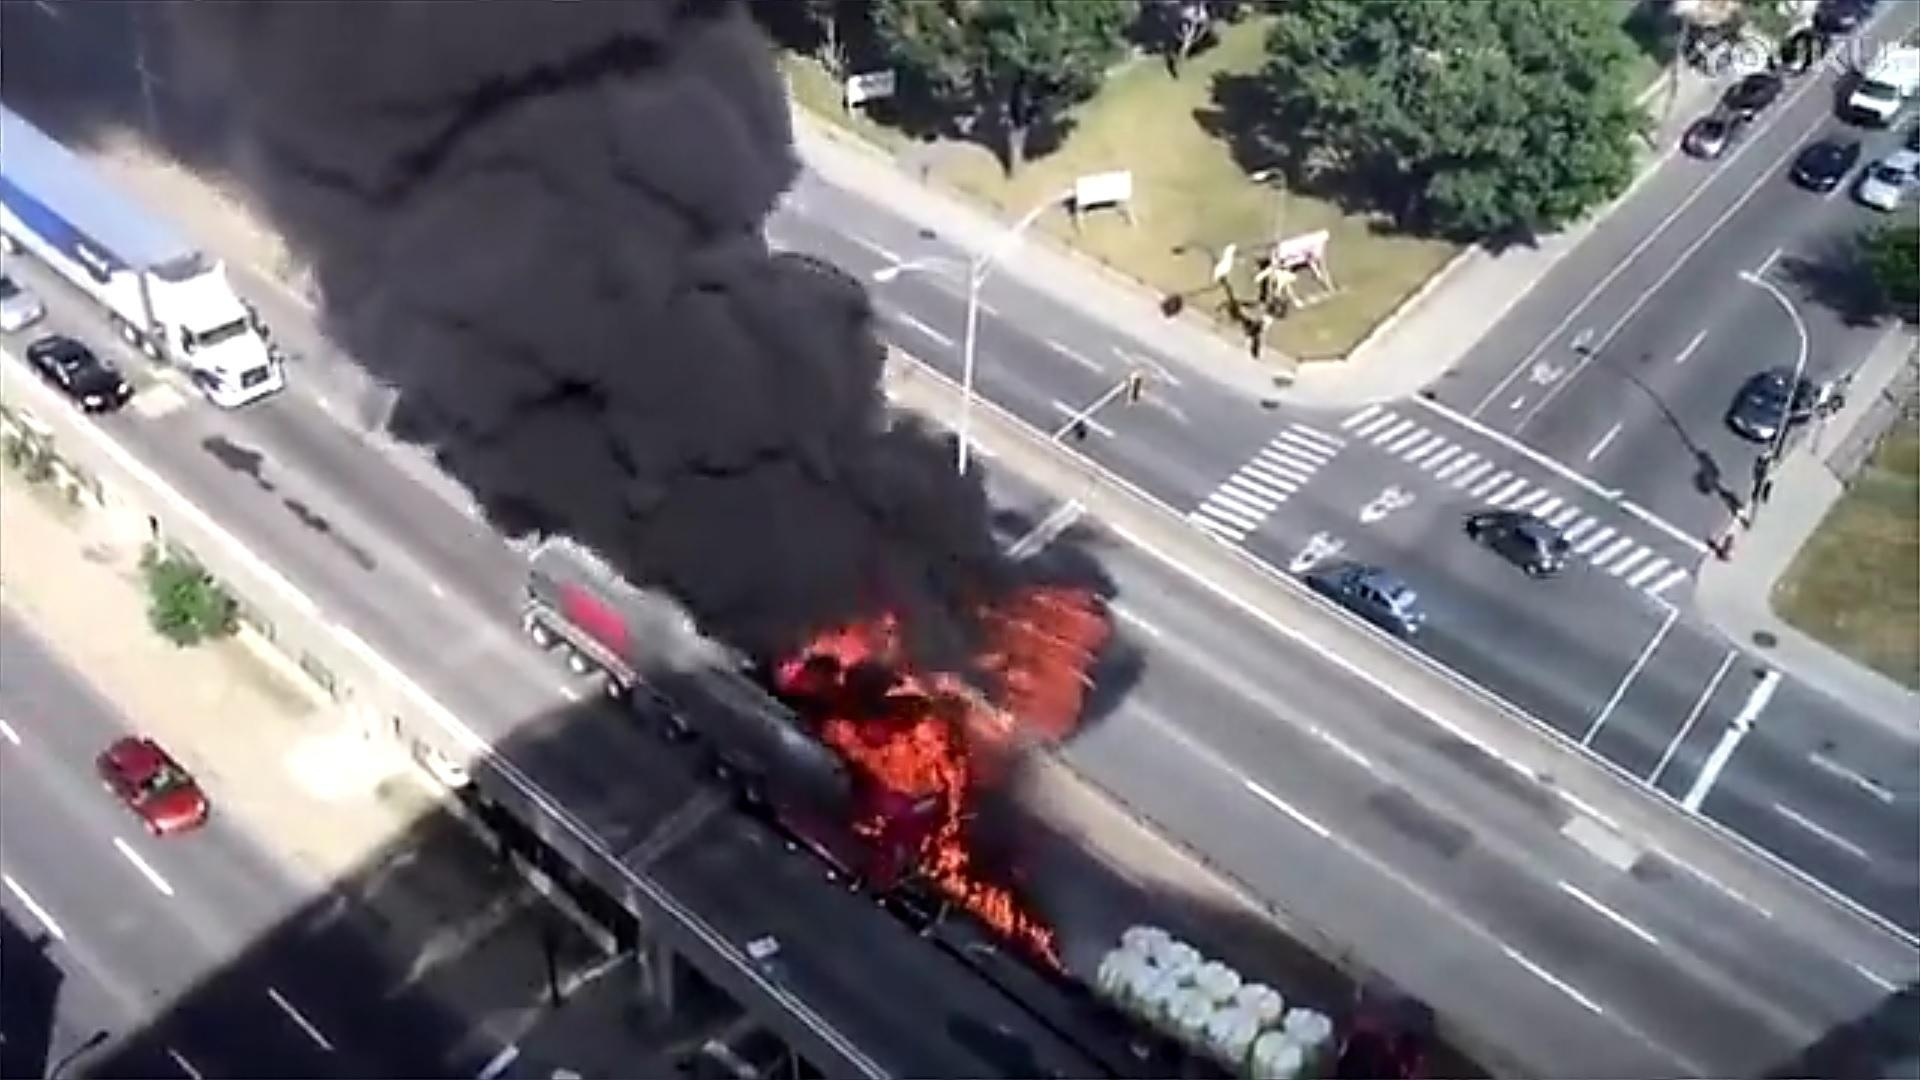fire: (796, 582, 1108, 953)
